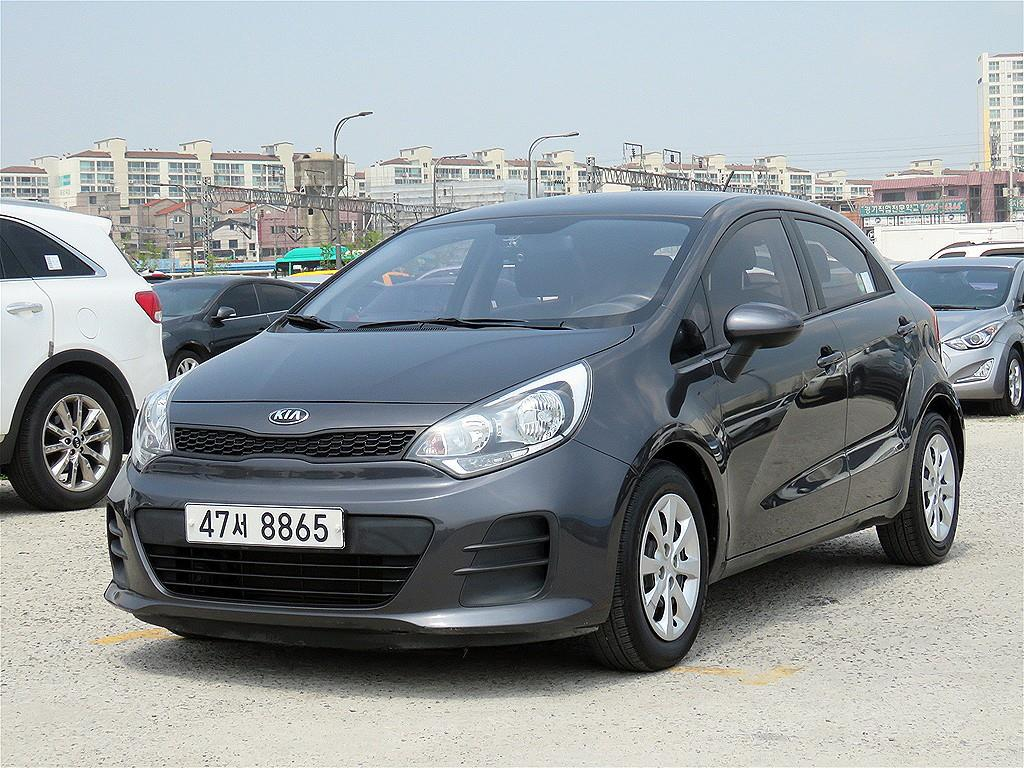plate: (185, 503, 344, 548)
